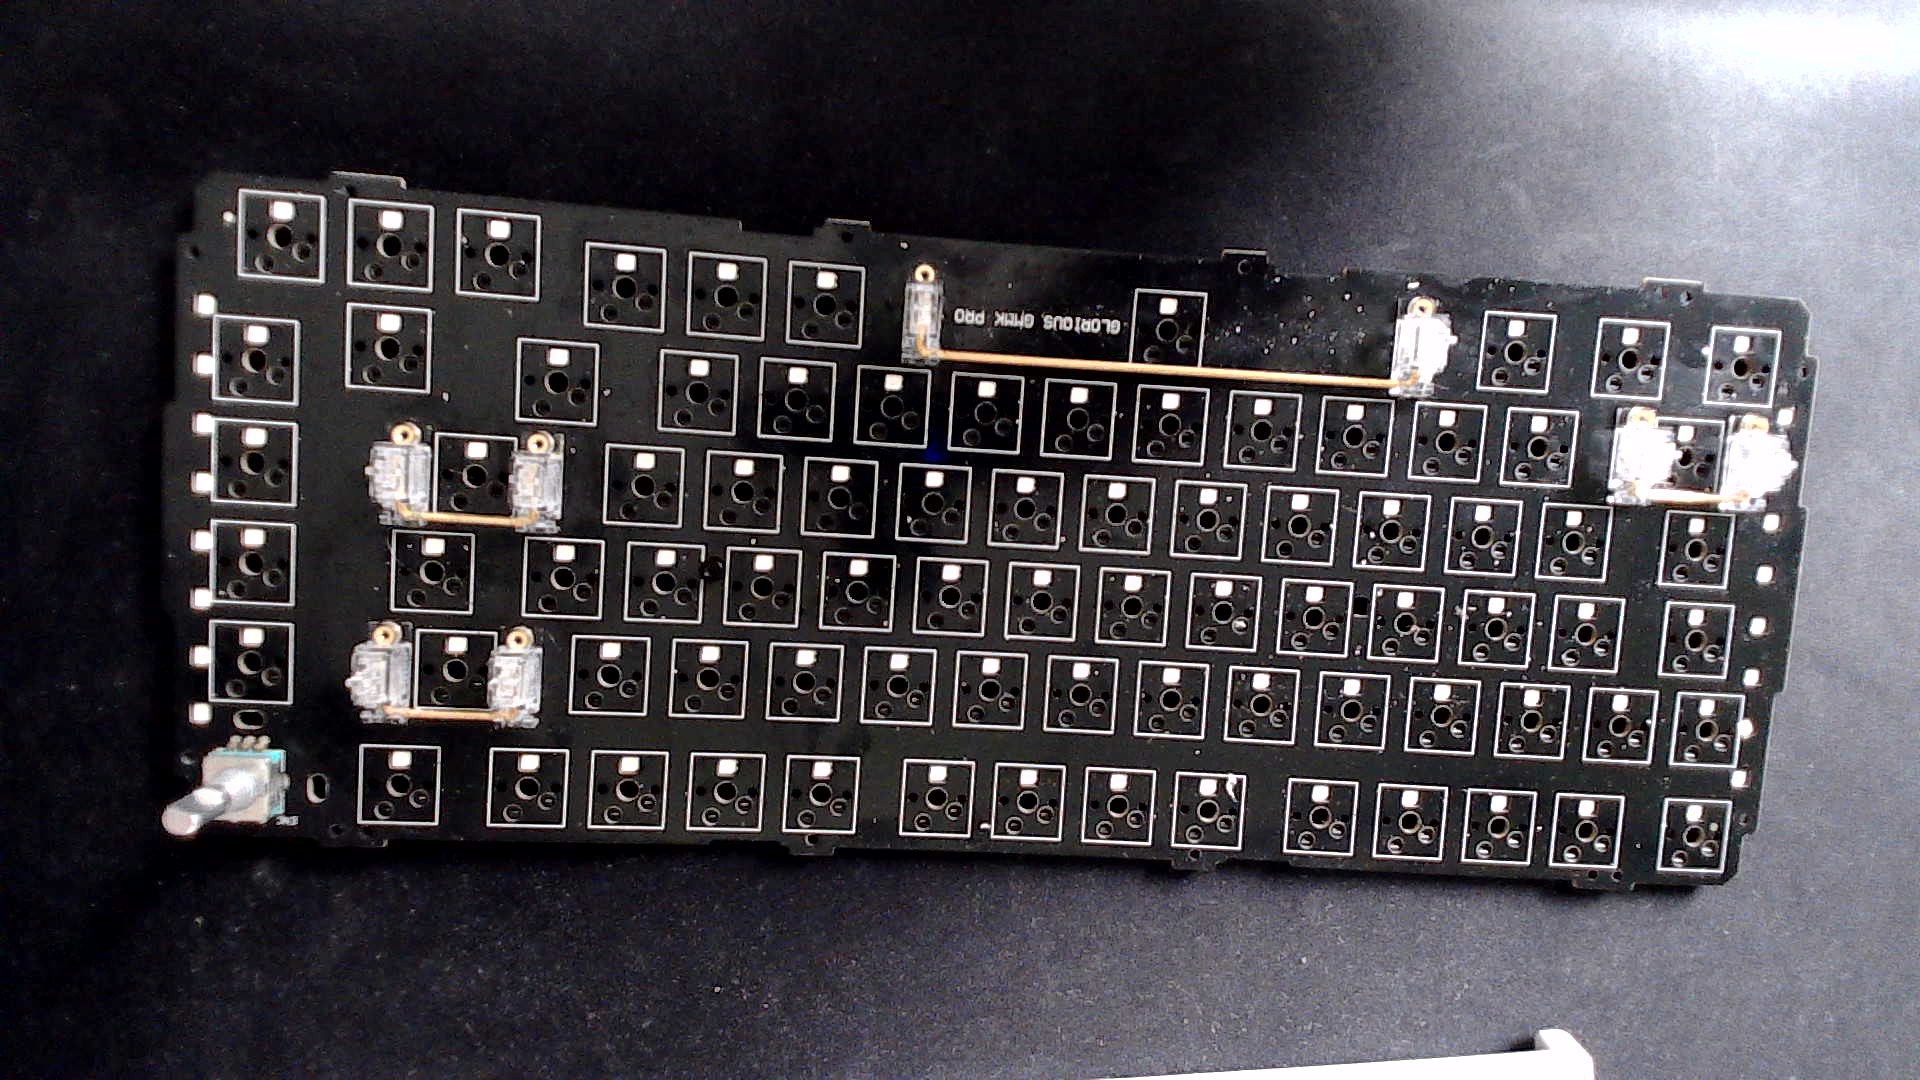pcb: (125, 109, 1845, 942)
